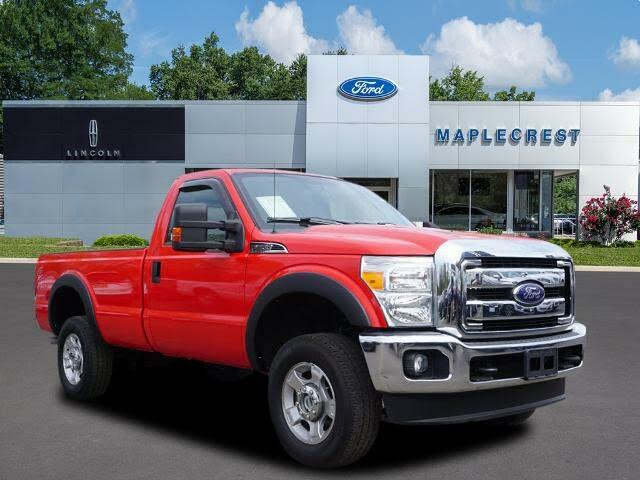pickup-truck: (28, 168, 586, 469)
